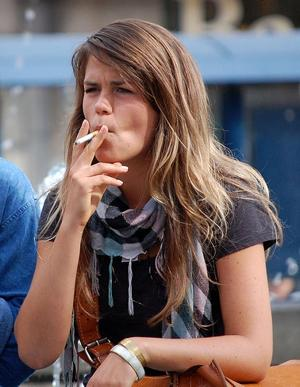person: (15, 18, 280, 387)
